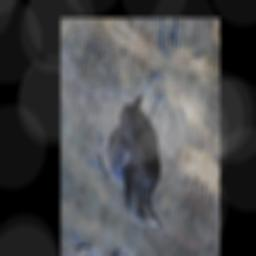Crow: (82, 40, 194, 241)
